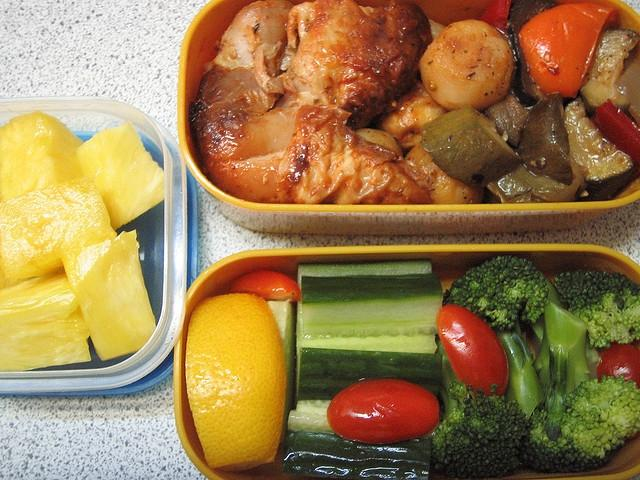broccoli: (518, 300, 640, 474), (441, 256, 549, 419), (428, 341, 529, 478), (553, 270, 640, 350)
cucumber: (296, 301, 442, 422), (302, 272, 442, 338), (280, 428, 434, 480), (297, 258, 432, 290), (287, 399, 335, 435)
lemon: (185, 294, 286, 472)
pineapple: (61, 228, 156, 360), (0, 176, 117, 279), (76, 121, 164, 231), (0, 268, 92, 372), (0, 110, 90, 202)
tomato: (519, 2, 621, 98), (326, 378, 439, 444), (436, 304, 509, 397), (594, 99, 638, 164), (228, 270, 301, 302), (597, 340, 639, 389)
vegetable marrow: (421, 106, 521, 188), (562, 96, 635, 200), (578, 28, 640, 116), (516, 93, 574, 186)
